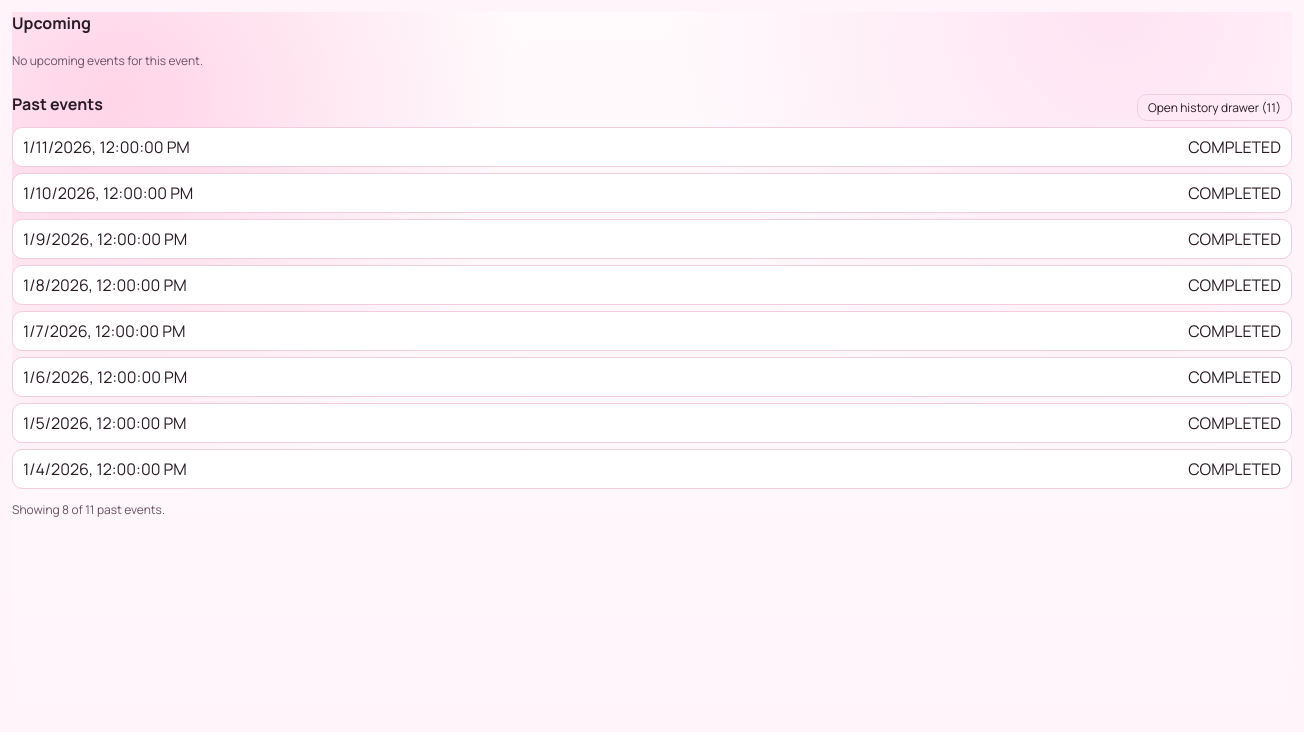
UpcomingEventsPanel › truncates long past history and opens with drawer button
Click the button "Open history drawer (11)" at (1215, 107), box [1137,94,1292,120]
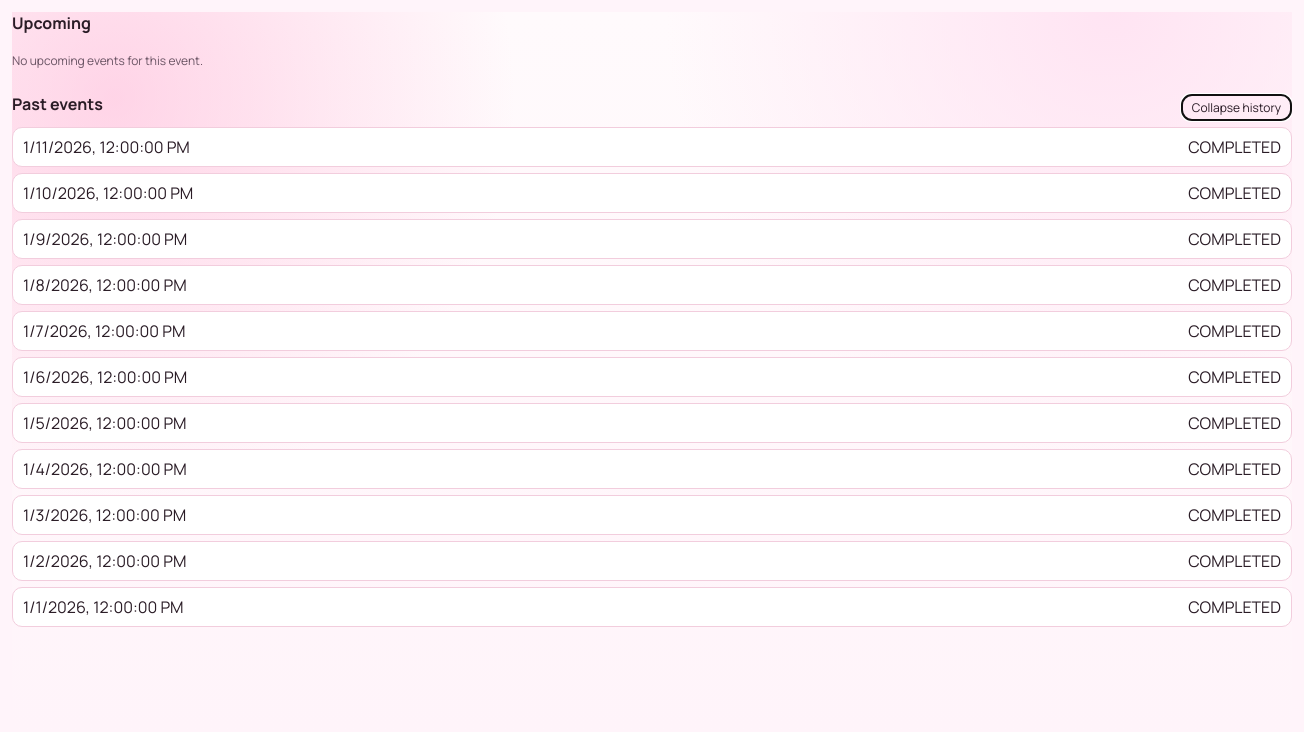
Expected: the number of buttons with test id "past-event-row" is 11
Expected: the button "Collapse history" is shown, [1181,94,1292,120]
